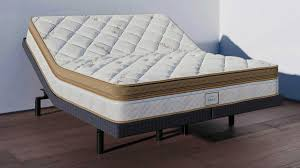bed-matress: (23, 13, 279, 138)
